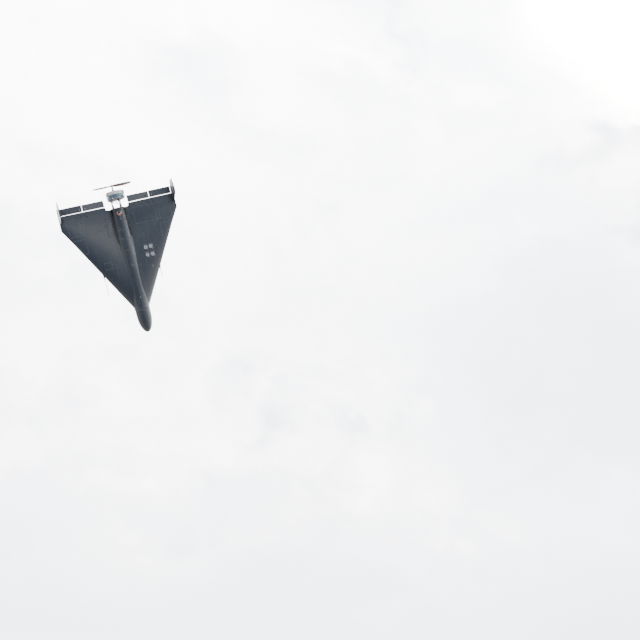shahed: (56, 177, 177, 332)
